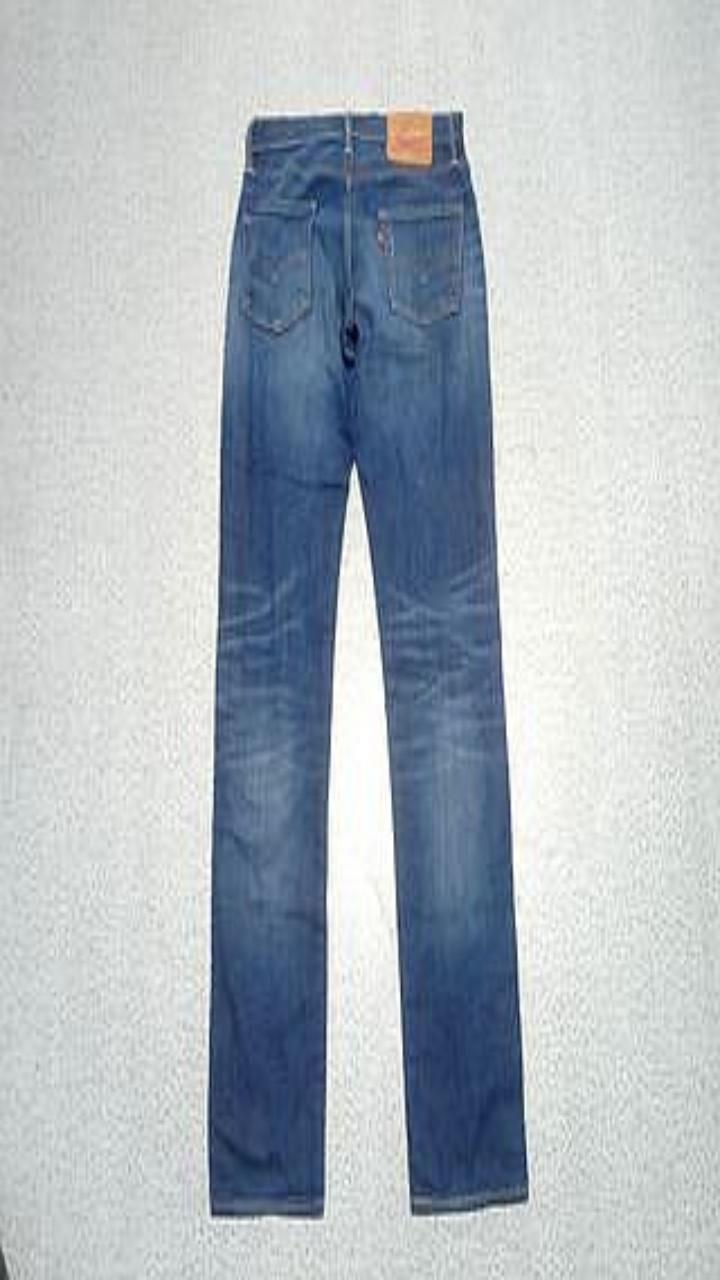Jeans: (208, 111, 527, 1215)
